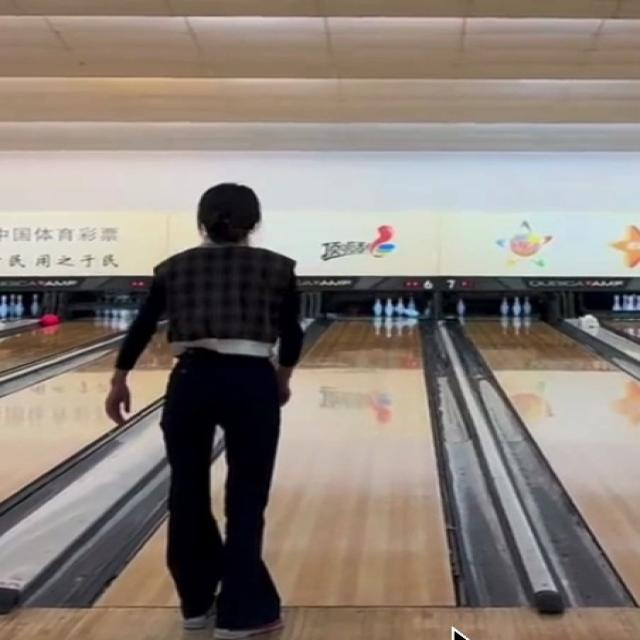alley: (265, 316, 453, 605), (101, 536, 174, 605)
bottle: (375, 299, 419, 318)
